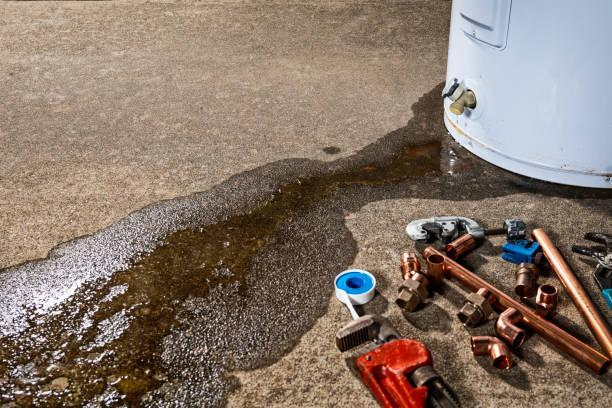water accumulation: (0, 77, 526, 408)
